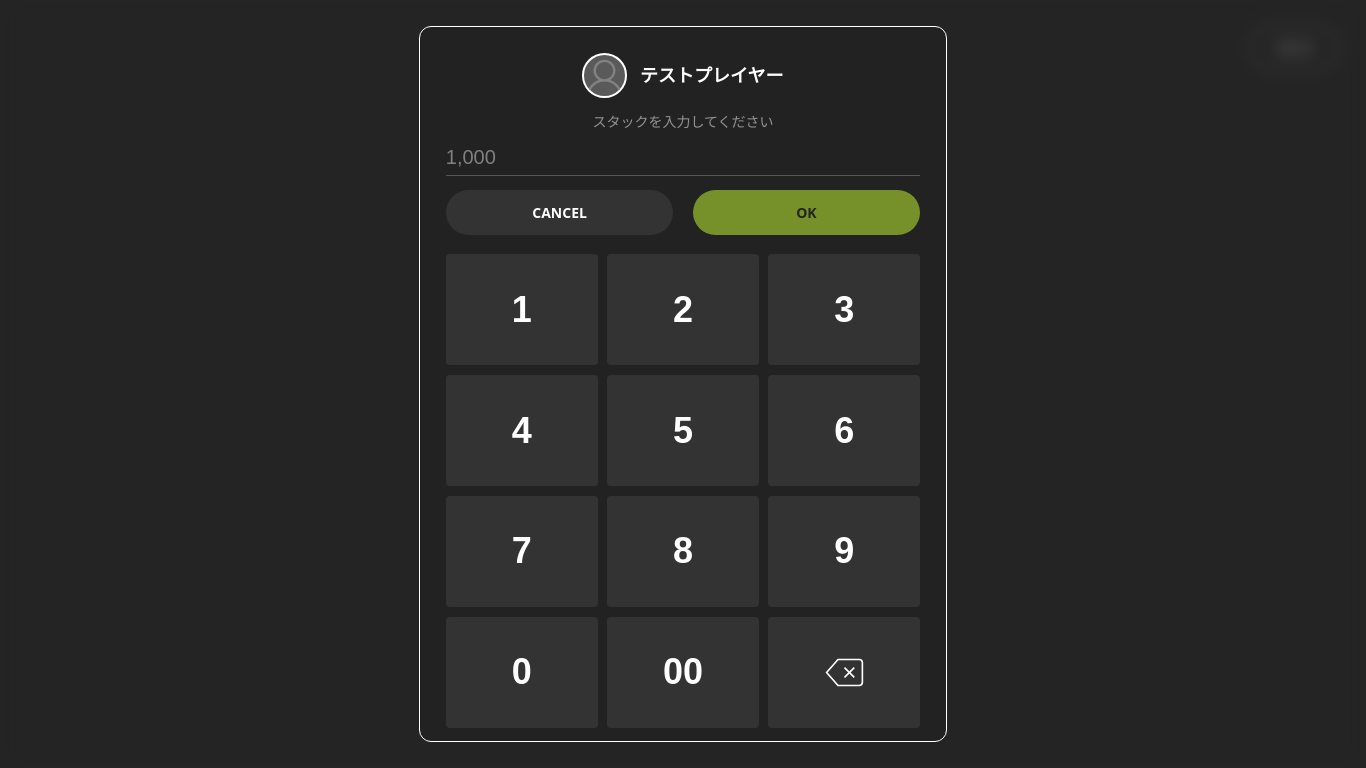
Test: CheckIn › スタック入力ステップ › 数字ボタンを押すと OK ボタンが有効になる
Expected: the text "スタックを入力してください" is shown, [592,112,774,131]
Click the button "1": x=522, y=310 [446,254,598,365]
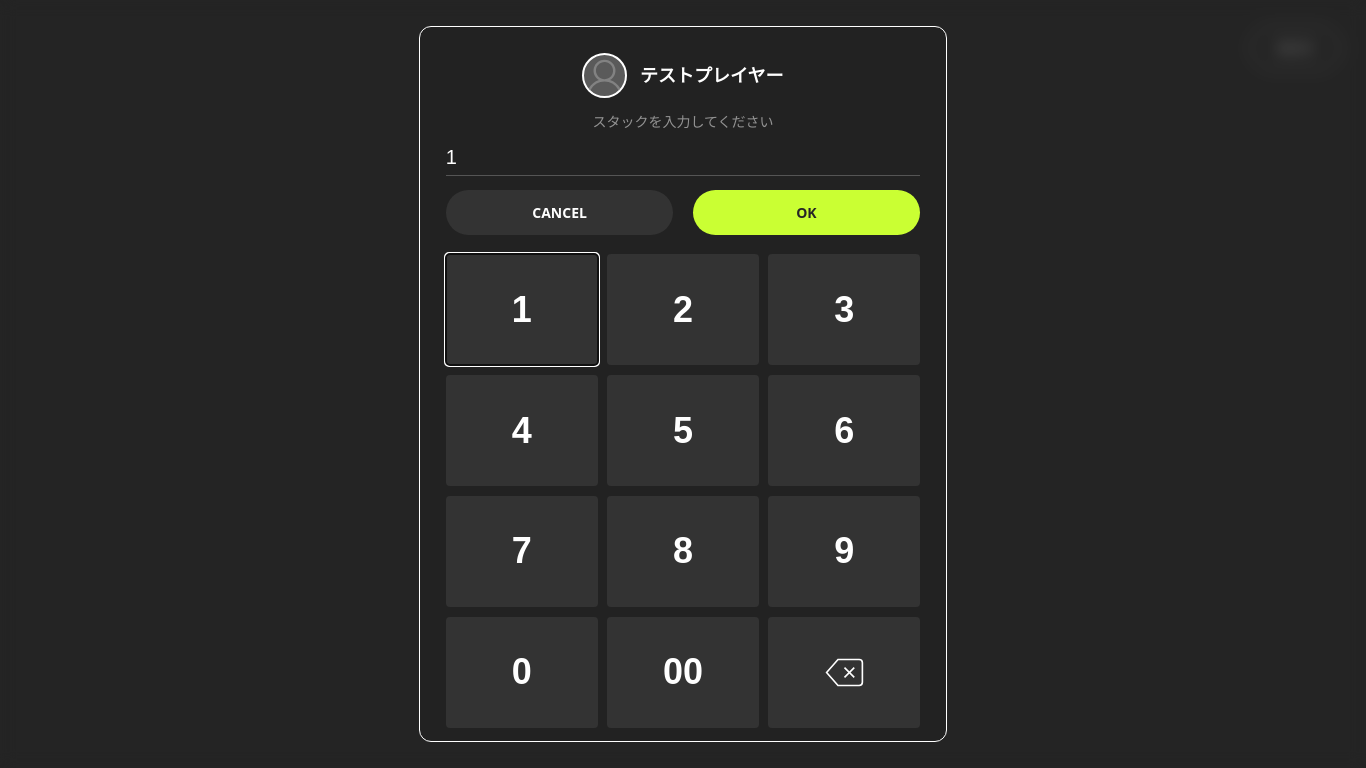
Result: the button "OK" is enabled at [693,190,920,235]
